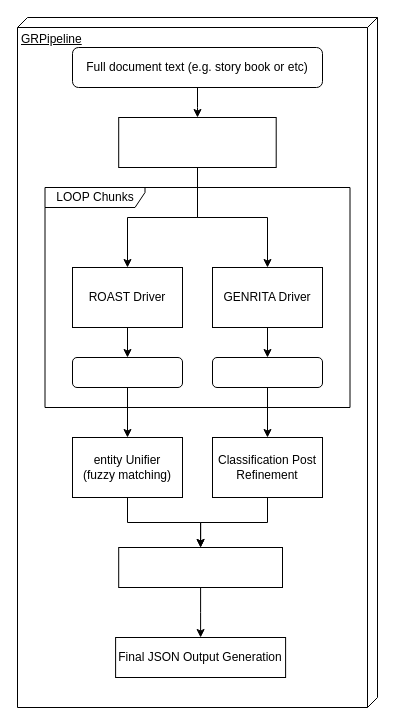
This 395x725 diagram has some shape labels left out. The shapes that lost their labels are listed below. From the top down, each one's centre as x and y in pixels, then its label:
At (x=197, y=142): "Text Chunker".
At (x=127, y=372): "raw L ist of Entities".
At (x=267, y=372): "raw Sense & Age Predictions (probs)".
At (x=200, y=567): "Combine Paragraph Results".
